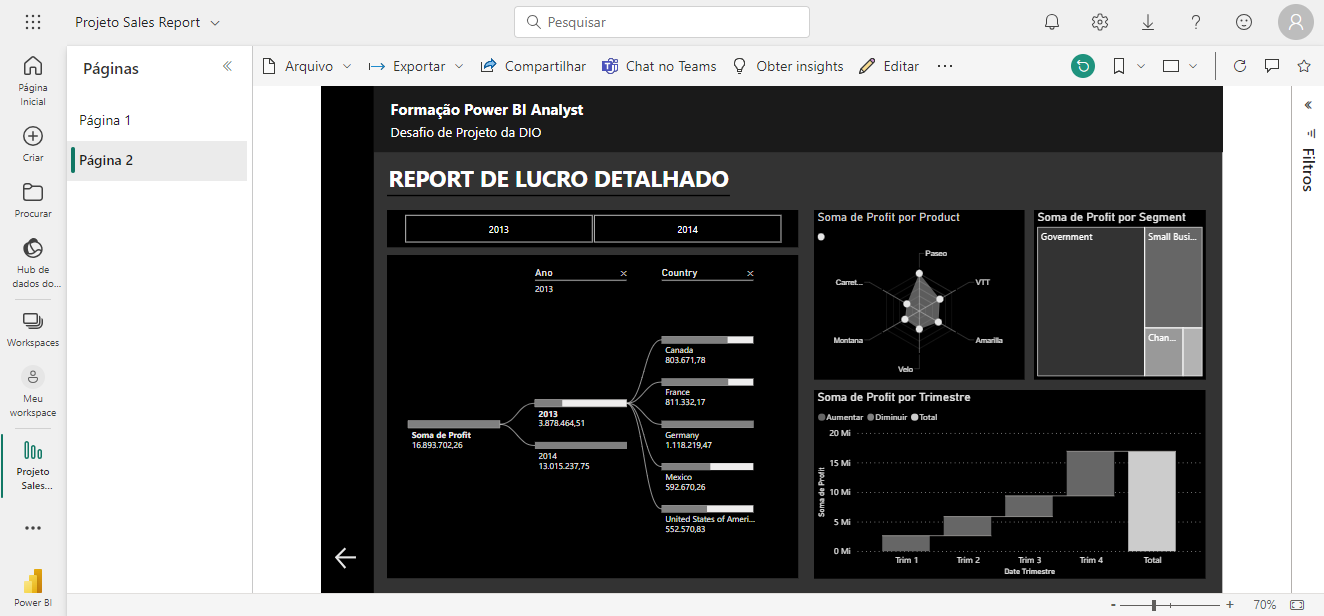

Layout of this report page (visuals, bound fields, positions):
{"tool":"powerbi","page":{"name":"Página 2","canvas":[1280,720],"ordinal":1},"visuals":[{"type":"group","id":"g1","title":"Layout","box":[0,0,1280,720.2],"z":0},{"type":"shape","box":[0,0,1280.5,720],"z":0,"group":"g1"},{"type":"shape","box":[0,0,74.6,720],"z":1000,"group":"g1"},{"type":"RadarChart1446119667547","fields":{"Y":["Sum(financials.Profit)"],"Category":["financials.Product"]},"box":[699.7,175.8,298.7,240.6],"z":1000},{"type":"shape","box":[74.6,0,1205.9,93.7],"z":2000,"group":"g1"},{"type":"decompositionTreeVisual","fields":{"Analyze":["Sum(financials.Profit)"],"ExplainBy":["financials.Date.Variation.Hierarquia de datas.Ano","financials.Country"]},"box":[93.9,240.6,583.7,459.1],"z":2000},{"type":"textbox","box":[93.7,13.2,295.6,41],"z":3000,"group":"g1"},{"type":"treemap","fields":{"Values":["Sum(financials.Profit)"],"Group":["financials.Segment"]},"box":[1012.1,175.8,244.1,240.6],"z":3000},{"type":"textbox","box":[93.7,46.8,307.3,39.5],"z":4000,"group":"g1"},{"type":"waterfallChart","fields":{"Y":["Sum(financials.Profit)"],"Category":["financials.Date.Variation.Hierarquia de datas.Trimestre"]},"box":[699.7,431.8,556.4,267.9],"z":4000},{"type":"textbox","box":[90.7,103.9,512.2,57.1],"z":5000,"group":"g1"},{"type":"slicer","fields":{"Values":["financials.Date.Variation.Hierarquia de datas.Ano"]},"box":[93.7,175.6,583.9,52.7],"z":5000},{"type":"shape","box":[93.7,150.7,487.3,10.2],"z":6000,"group":"g1"},{"type":"actionButton","box":[16.1,649.8,41,39.5],"z":7000,"group":"g1"}]}

Visuals, with their boxes on the page's 1280x720 design canvas (x1, y1, x2, y2). These are canvas units, not pixel positions in the 1324x616 screenshot, which may show the page scaled, cropped or inside an application window:
"Layout" group: detection(0, 0, 1280, 720)
shape: detection(0, 0, 1280, 720)
shape: detection(0, 0, 75, 720)
RadarChart1446119667547 - Sum(financials.Profit) x financials.Product: detection(700, 176, 998, 416)
shape: detection(75, 0, 1280, 94)
decompositionTreeVisual - Sum(financials.Profit) x financials.Date.Variation.Hierarquia de datas.Ano: detection(94, 241, 678, 700)
textbox: detection(94, 13, 389, 54)
treemap - Sum(financials.Profit) x financials.Segment: detection(1012, 176, 1256, 416)
textbox: detection(94, 47, 401, 86)
waterfallChart - Sum(financials.Profit) x financials.Date.Variation.Hierarquia de datas.Trimestre: detection(700, 432, 1256, 700)
textbox: detection(91, 104, 603, 161)
slicer - financials.Date.Variation.Hierarquia de datas.Ano: detection(94, 176, 678, 228)
shape: detection(94, 151, 581, 161)
actionButton: detection(16, 650, 57, 689)
